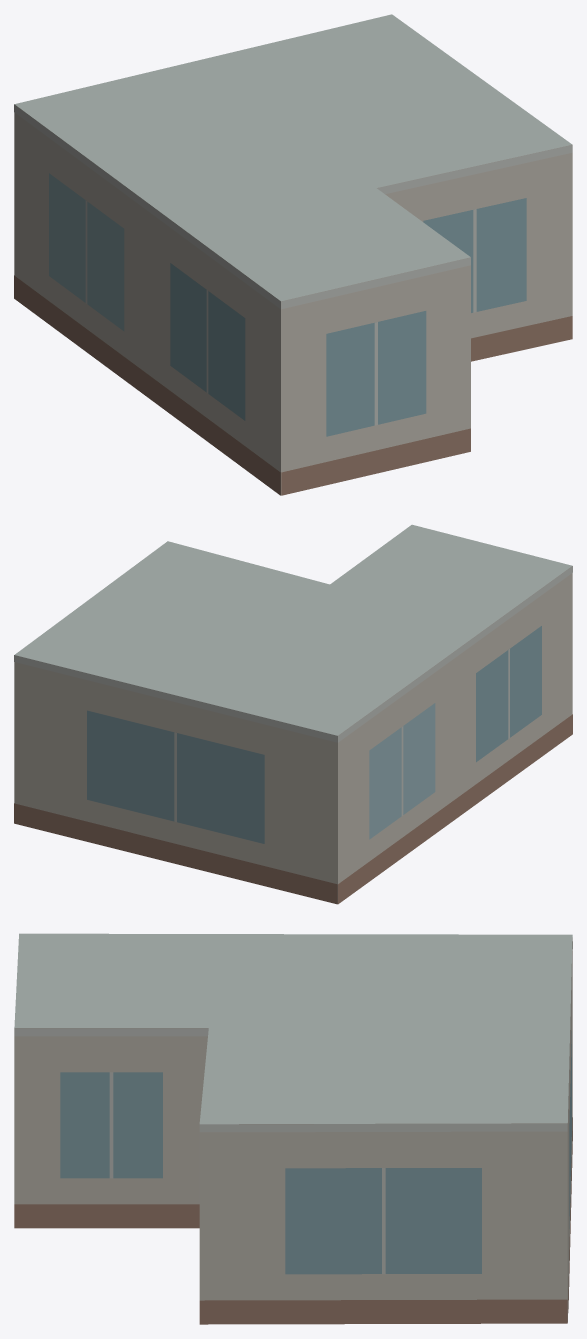
The model's file is survey-upis-32638075.glb.
3 views of the same model, one above another, from view 1: azimuth 30°, elevation 25°; view 2: azimuth 150°, elevation 25°; view 3: azimuth 270°, elevation 25° (orthographic). The views are drawn at different scales.
Parts seen in each view (by area): view 1: survey-upis-32638075.tmp; view 2: survey-upis-32638075.tmp; view 3: survey-upis-32638075.tmp.
Part boxes in pixels (<box>): survey-upis-32638075.tmp: <box>14,14,572,495</box>; survey-upis-32638075.tmp: <box>14,524,572,904</box>; survey-upis-32638075.tmp: <box>14,933,572,1324</box>.
Size of the model in its own units: 6.24 by 3.05 by 7.72.
